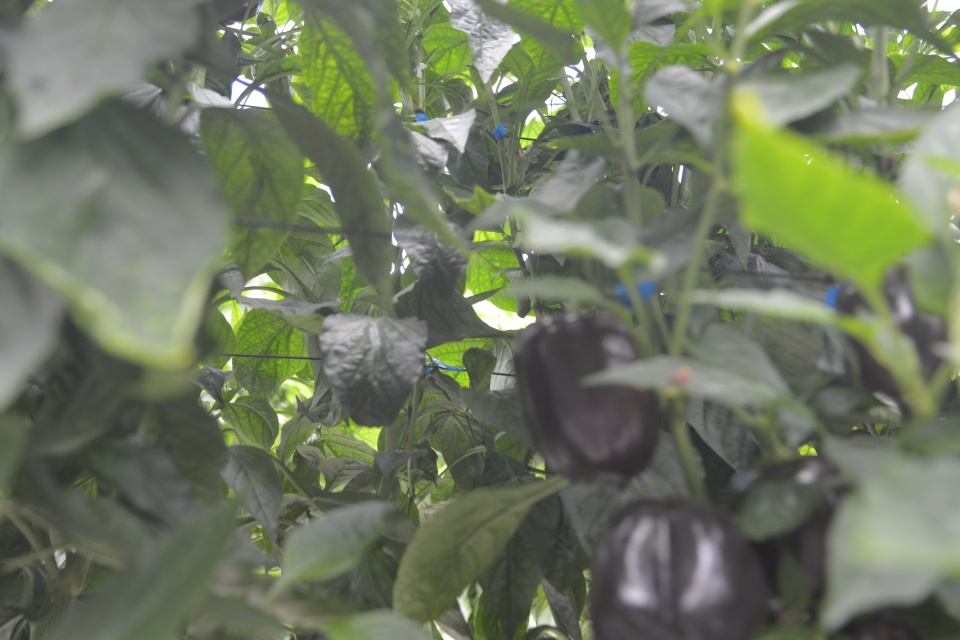flower: (521, 142, 542, 170)
fruit: (584, 498, 788, 640), (511, 315, 664, 484), (836, 261, 960, 405)
